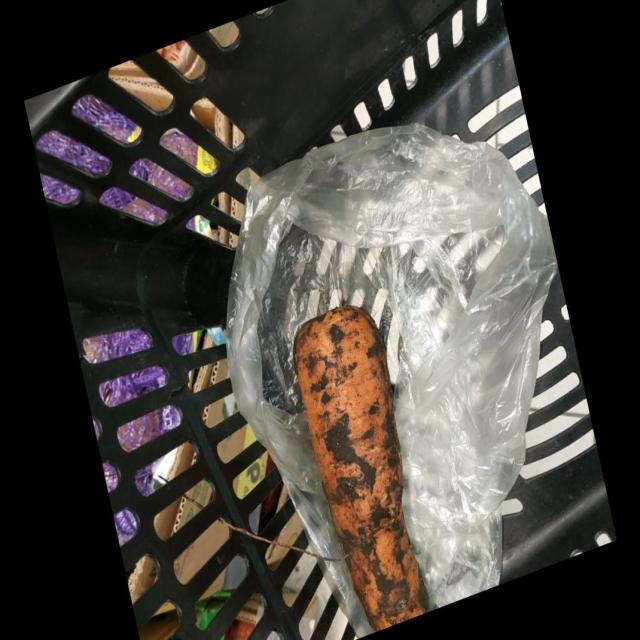carrot: (202, 266, 602, 640)
